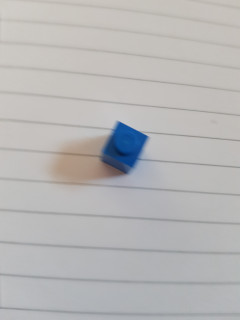1x1 blue: (97, 119, 152, 177)
